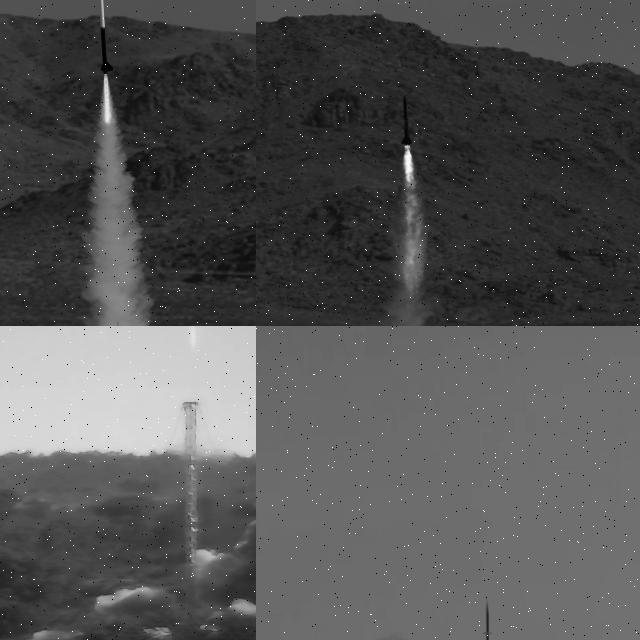Rocket: (97, 0, 115, 74), (400, 93, 413, 146), (486, 602, 491, 640)
